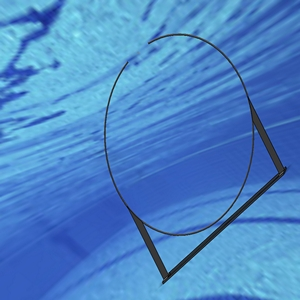circle: (101, 32, 286, 281)
